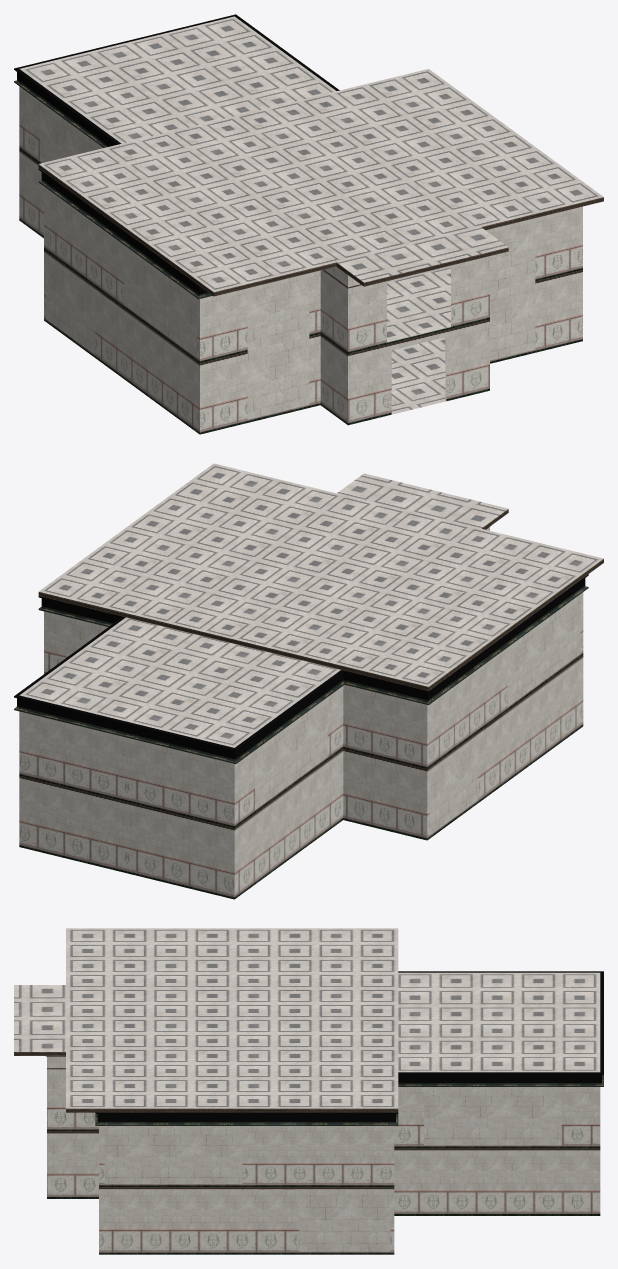
File: Launch_Building_Coon_Building_Art.fbx
3 renders of one model, top to bottom at view 1: azimuth 30°, elevation 25°; view 2: azimuth 150°, elevation 25°; view 3: azimuth 270°, elevation 25°, orthographic. The views are drawn at different scales.
Parts seen in each view (by area): view 1: Launch_Building_Coon_Exterior_Roof2, Launch_Building_Coon_Exterior_Wall, Launch_Building_Coon_Interior_Wall, Launch_Building_Coon_Exterior_Roof1, Launch_Building_Coon_Building, Launch_Building_Coon_Exterior_Joint1; view 2: Launch_Building_Coon_Exterior_Roof2, Launch_Building_Coon_Exterior_Wall, Launch_Building_Coon_Exterior_Roof1, Launch_Building_Coon_Interior_Wall, Launch_Building_Coon_Exterior_Joint1; view 3: Launch_Building_Coon_Exterior_Roof2, Launch_Building_Coon_Exterior_Wall, Launch_Building_Coon_Interior_Wall, Launch_Building_Coon_Exterior_Roof1, Launch_Building_Coon_Exterior_Joint1.
Part boxes in pixels (x1,y1,x2,y2): Launch_Building_Coon_Exterior_Roof2: (38, 69, 603, 296); Launch_Building_Coon_Exterior_Wall: (19, 86, 582, 434); Launch_Building_Coon_Interior_Wall: (39, 101, 535, 419); Launch_Building_Coon_Exterior_Roof1: (20, 16, 336, 143); Launch_Building_Coon_Building: (387, 266, 450, 414); Launch_Building_Coon_Exterior_Joint1: (14, 14, 339, 299); Launch_Building_Coon_Exterior_Roof2: (38, 463, 603, 690); Launch_Building_Coon_Exterior_Wall: (19, 527, 583, 899); Launch_Building_Coon_Exterior_Roof1: (19, 617, 340, 747); Launch_Building_Coon_Interior_Wall: (255, 594, 580, 835); Launch_Building_Coon_Exterior_Joint1: (14, 574, 588, 763); Launch_Building_Coon_Exterior_Roof2: (14, 928, 398, 1112); Launch_Building_Coon_Exterior_Wall: (47, 1056, 600, 1254); Launch_Building_Coon_Interior_Wall: (104, 1088, 561, 1251); Launch_Building_Coon_Exterior_Roof1: (398, 972, 600, 1072); Launch_Building_Coon_Exterior_Joint1: (95, 971, 603, 1125).
Bounding box in the file's own units: 2862 × 1093 × 3956.
